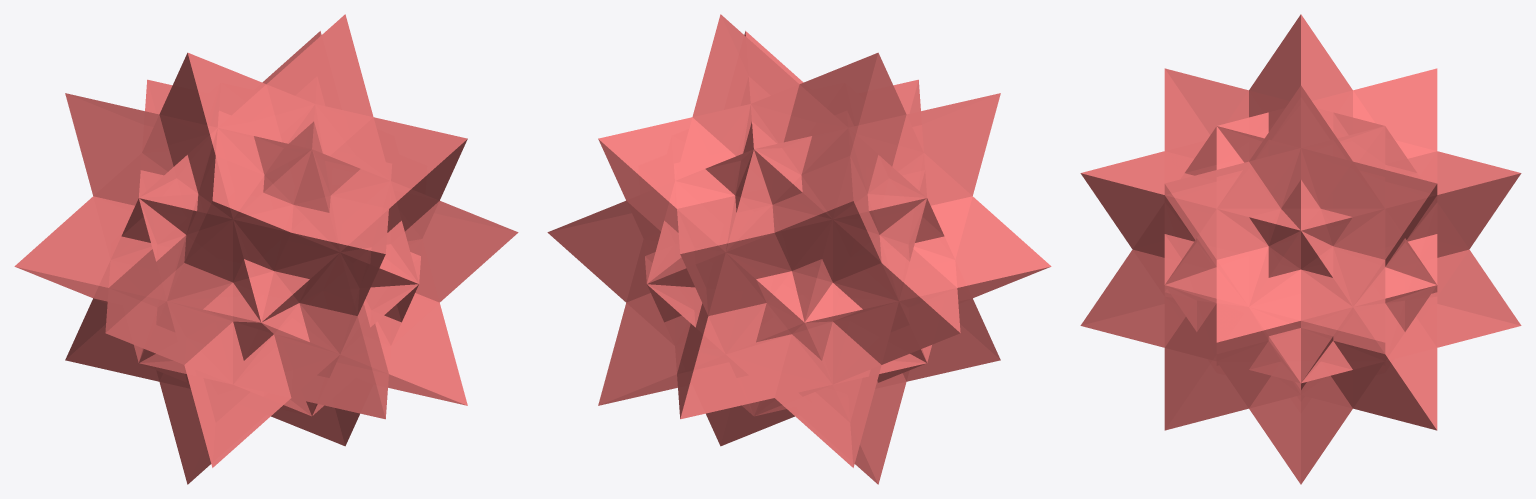
File: GreatRhombicTriacontahedron.obj
3 renders of one model, left to right at view 1: azimuth 30°, elevation 25°; view 2: azimuth 150°, elevation 25°; view 3: azimuth 270°, elevation 25°, orthographic. The views are drawn at different scales.
Size of the model in its own units: 1.12 by 1.12 by 1.12.
